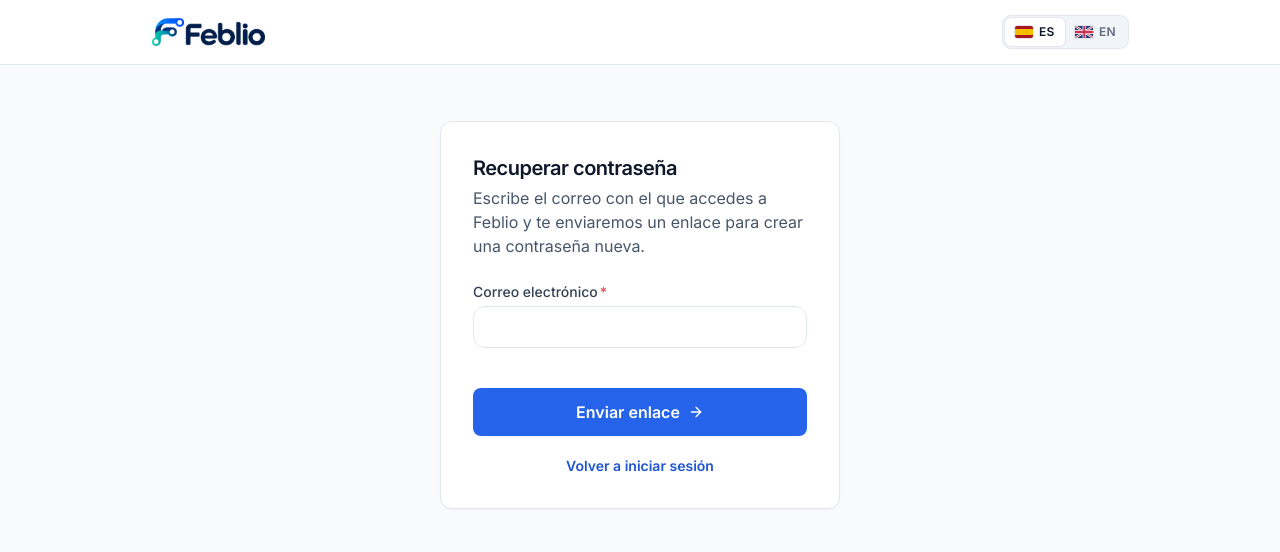
Test: <ForgotPasswordPage /> › envía la solicitud (simulada) y responde de forma neutra
The image size is (1280, 552).
Type "Laura@Norte.es" into the field labelled "Correo electrónico*" at (640, 327), box [473,306,807,348]
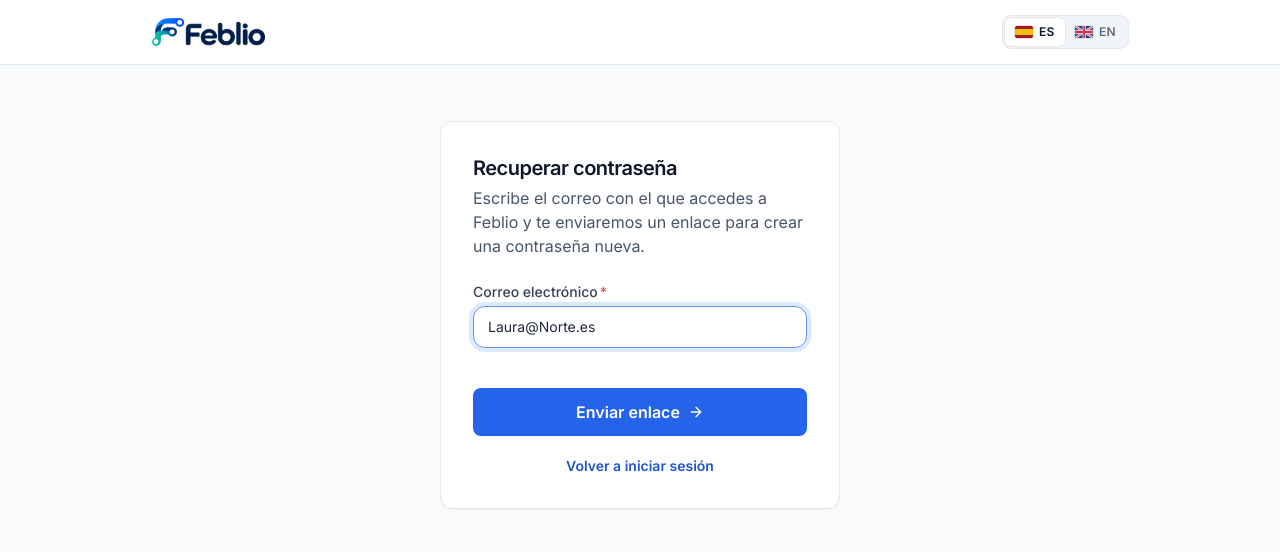
Click the button "Enviar enlace" at (640, 412), box [473,388,807,436]
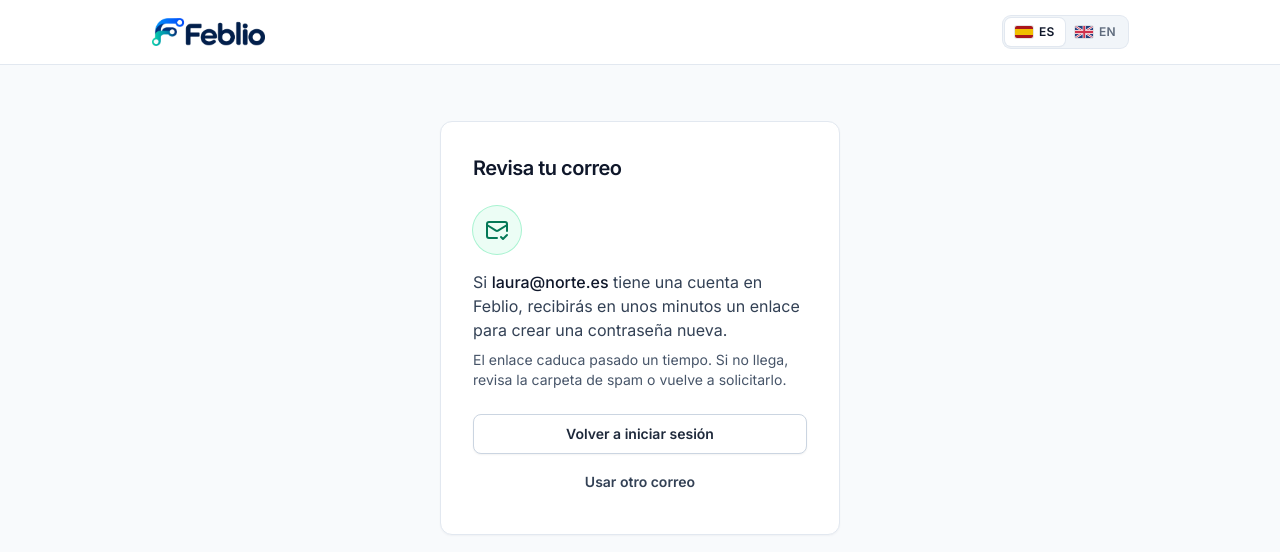
Result: the message shows "Si laura@norte.es tiene una cuenta" at [473,206,807,502]
